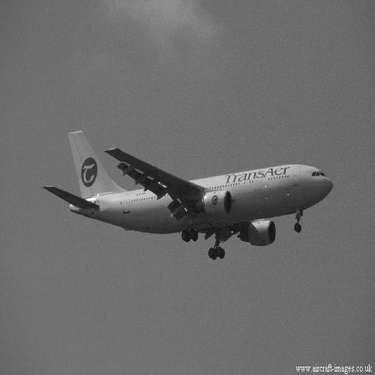airplane: (38, 119, 334, 259)
